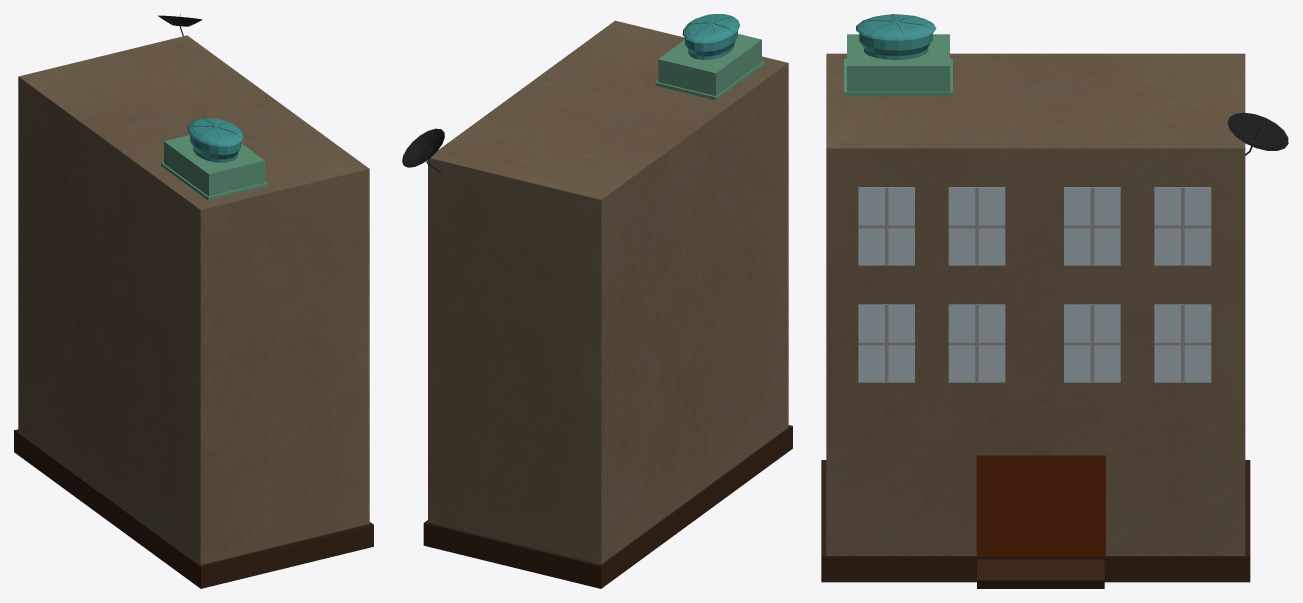
Rendered from predio1.fbx.
The picture shows the model from 3 angles, left to right: view 1: azimuth 30°, elevation 25°; view 2: azimuth 150°, elevation 25°; view 3: azimuth 270°, elevation 25°; orthographic projection. The views are drawn at different scales.
Visible parts, largest first — view 1: Cube; view 2: Cube; view 3: Cube.
Boxes of the visible parts, box(x1,y1,x2,y2) form: Cube: box(14, 14, 373, 588); Cube: box(402, 14, 792, 588); Cube: box(821, 14, 1288, 588).
Bounding box in the file's own units: 1476 × 3184 × 2747.
